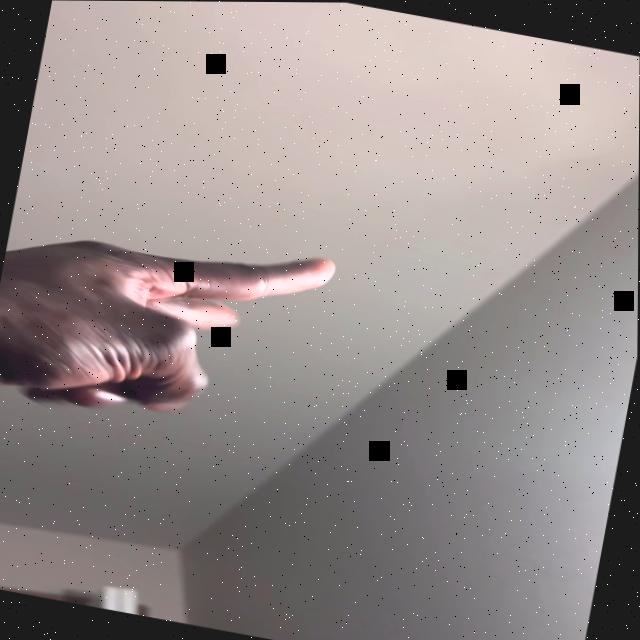Scissors: (0, 202, 341, 451)
